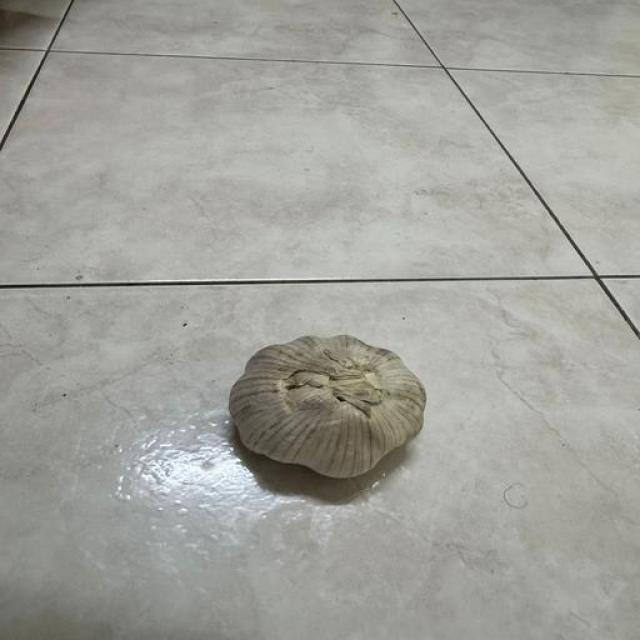organic: (209, 298, 480, 561)
